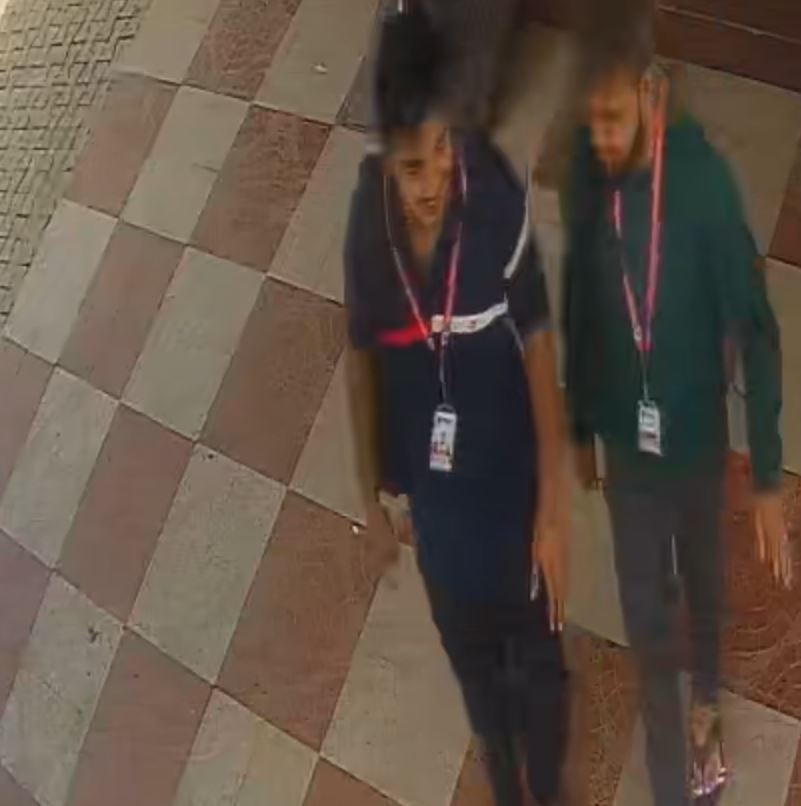not intruder: (547, 7, 796, 793), (346, 15, 574, 806)
